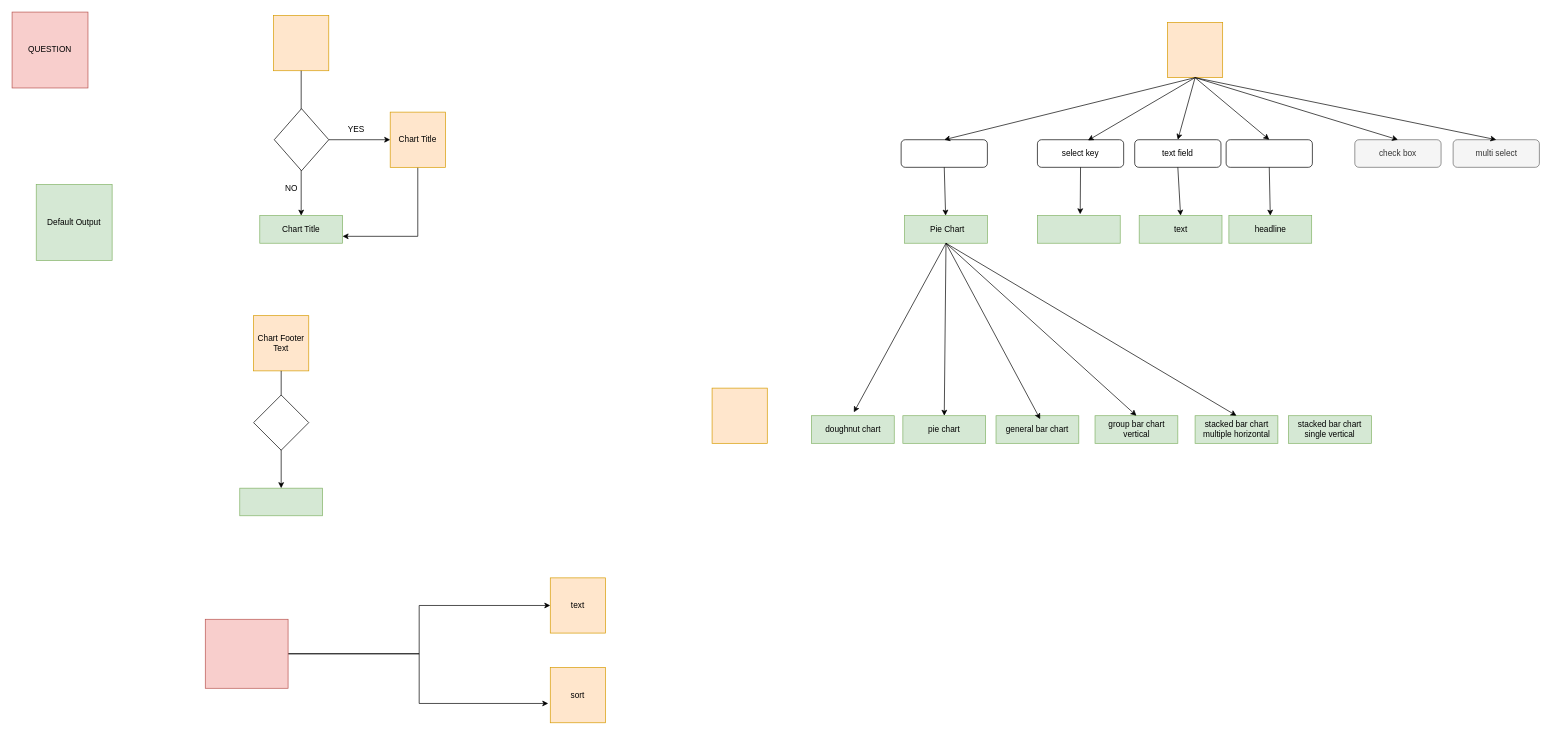
This 1552x735 diagram has some shape labels left out. The shapes that lost their labels are listed below. From the top down, each one's centre as x and y in pixels, then its label:
At point 301,43: "Question Name".
At point 1195,50: "Field Type".
At point 301,139: "over write title".
At point 943,153: "radios".
At point 1268,153: "custome text".
At point 1078,229: "Table".
At point 281,422: "Average Or Percentage".
At point 739,415: "Chart Type".
At point 281,501: "Chart bottom text".
At point 246,653: "Chart Legend".
